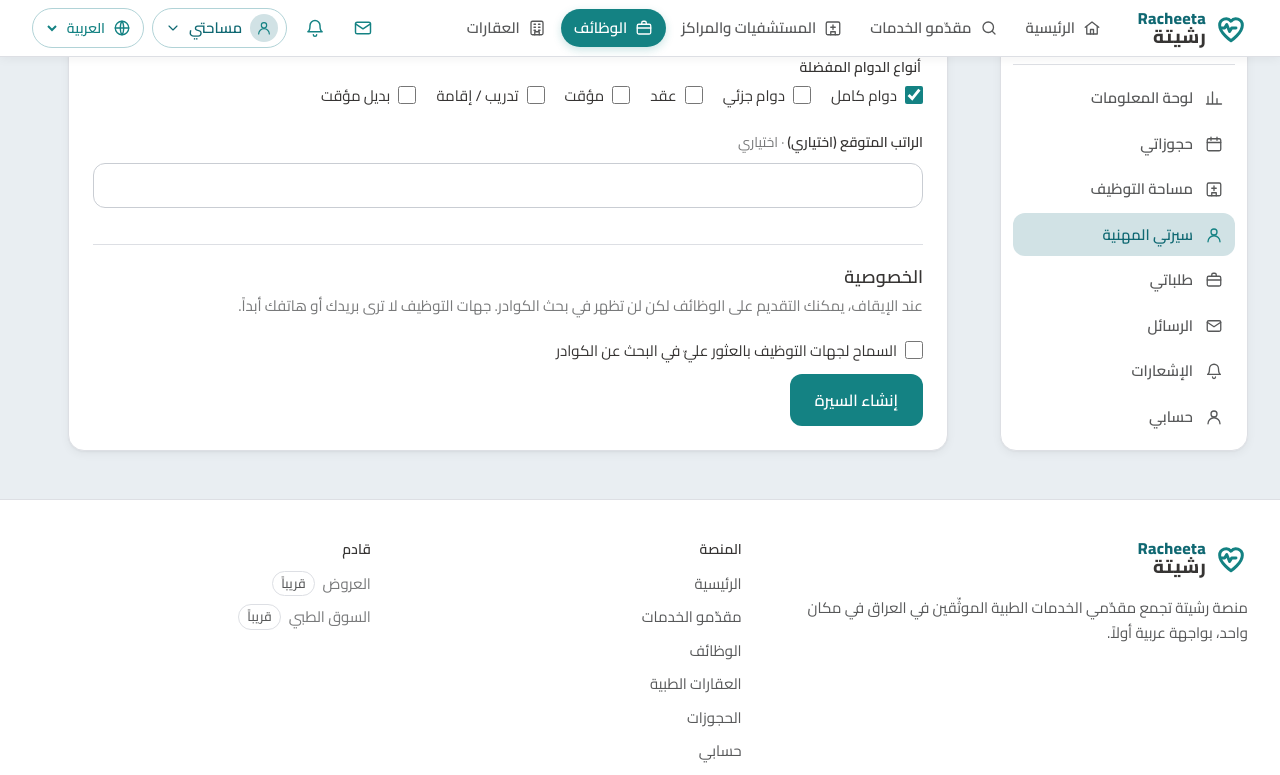
it: SeekerProfilePage › onboards a new seeker: client validation first, then creates the structured résumé
(page scrolled)
Click the button "إنشاء السيرة": (856, 400) left=790, top=374, right=923, bottom=426
(page scrolled)
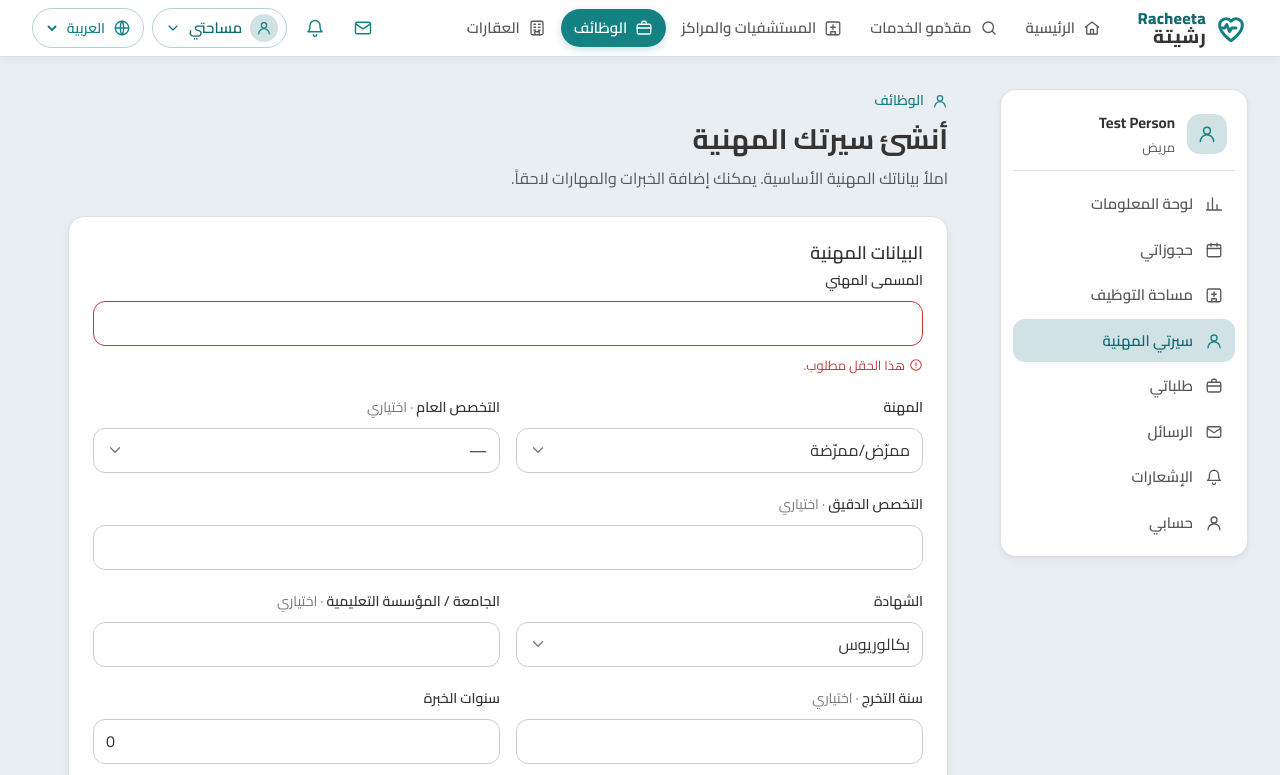
Expected: the text "هذا الحقل مطلوب." is shown, left=804, top=353, right=923, bottom=377
In the field labelled "المسمى المهني": (508, 323) left=93, top=301, right=923, bottom=346, type "ممرضة عناية مركزة"
(page scrolled)
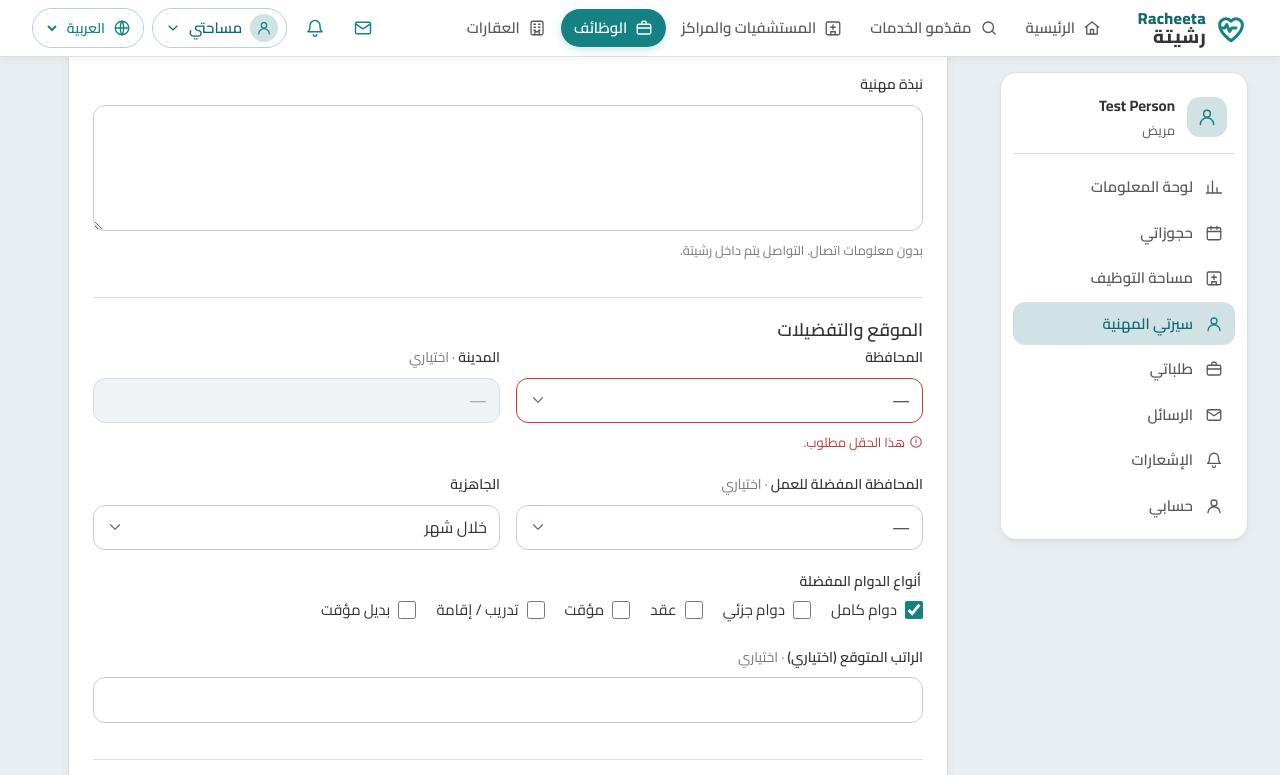
Select "بغداد" in the dropdown labelled "المحافظة": (720, 400) left=516, top=378, right=923, bottom=423
(page scrolled)
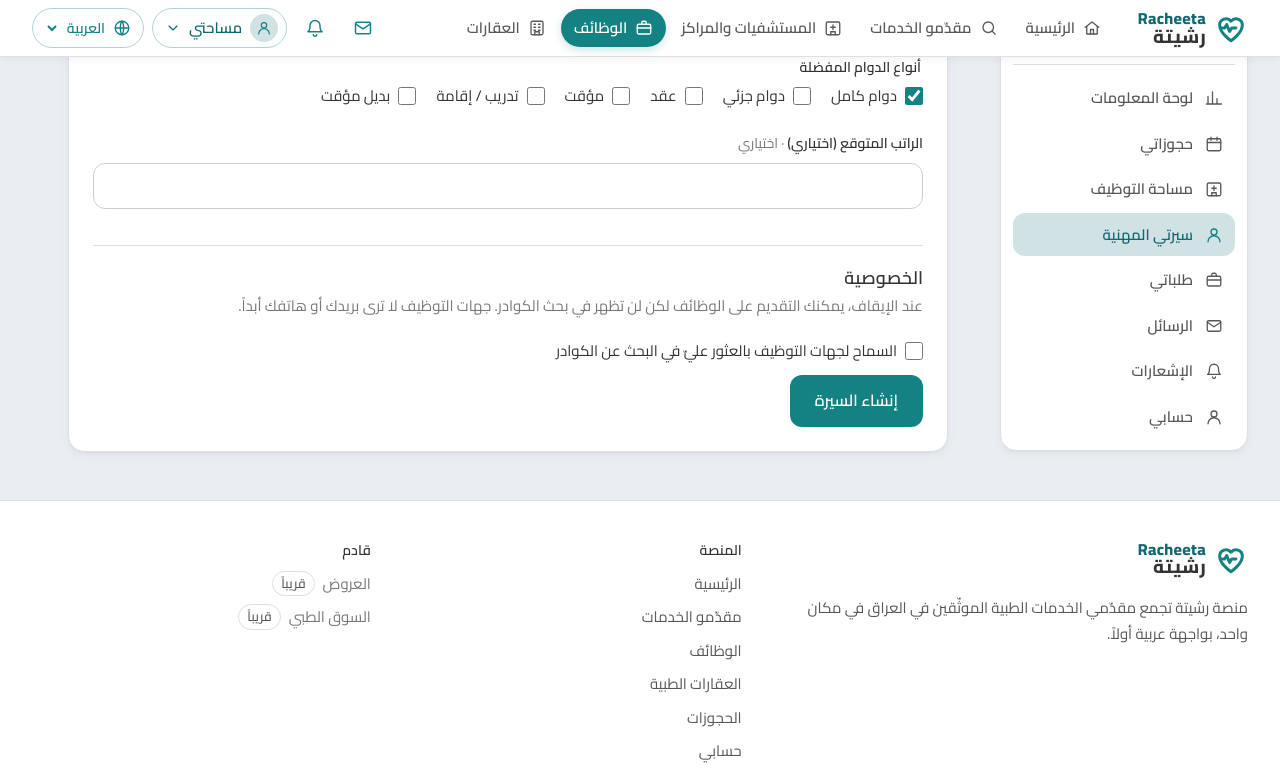
Click the button "إنشاء السيرة": (856, 400) left=790, top=374, right=923, bottom=426
(page scrolled)
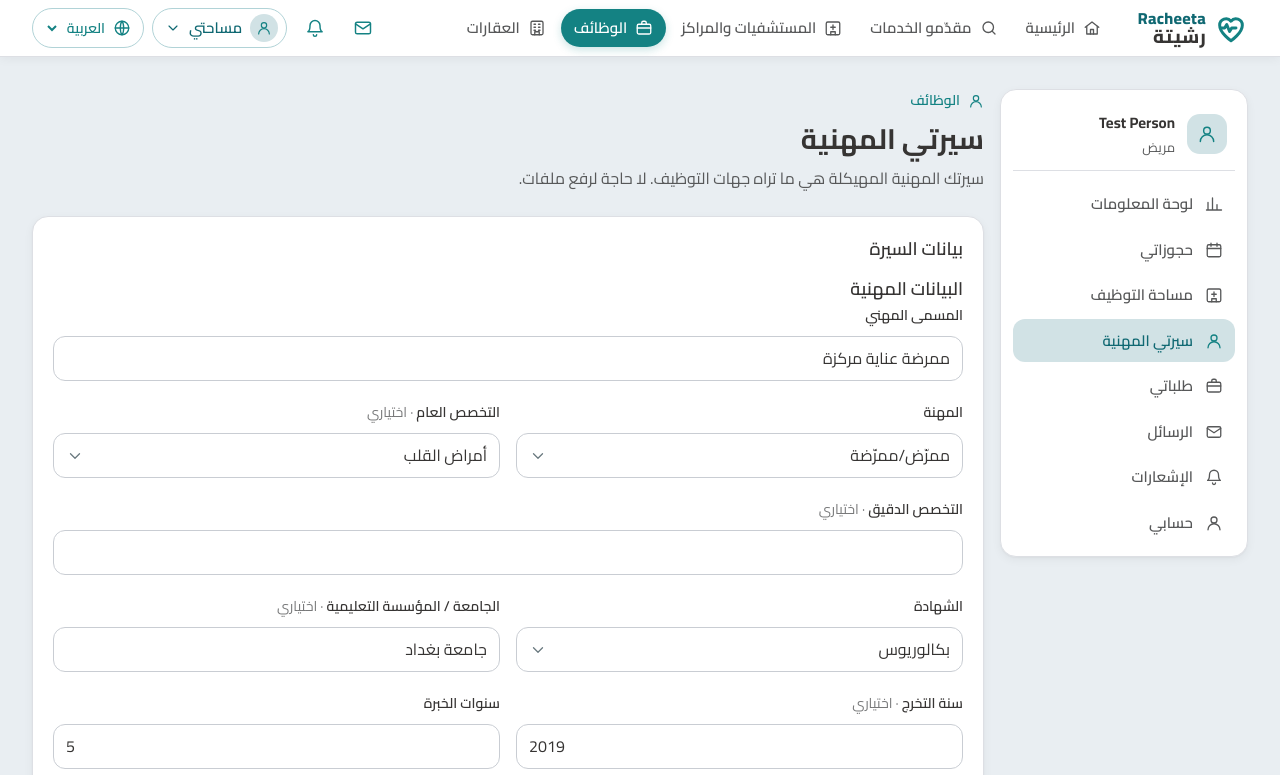
Expected: the heading "سيرتي المهنية" is shown, left=801, top=113, right=984, bottom=165
